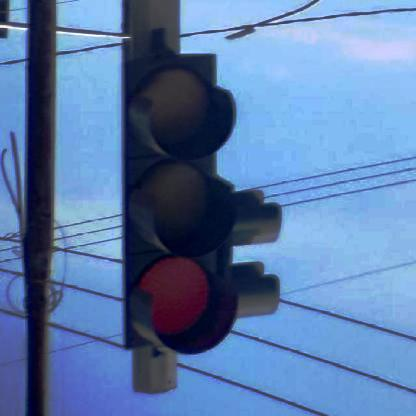Traffic Light -Red-: (122, 54, 239, 353)
